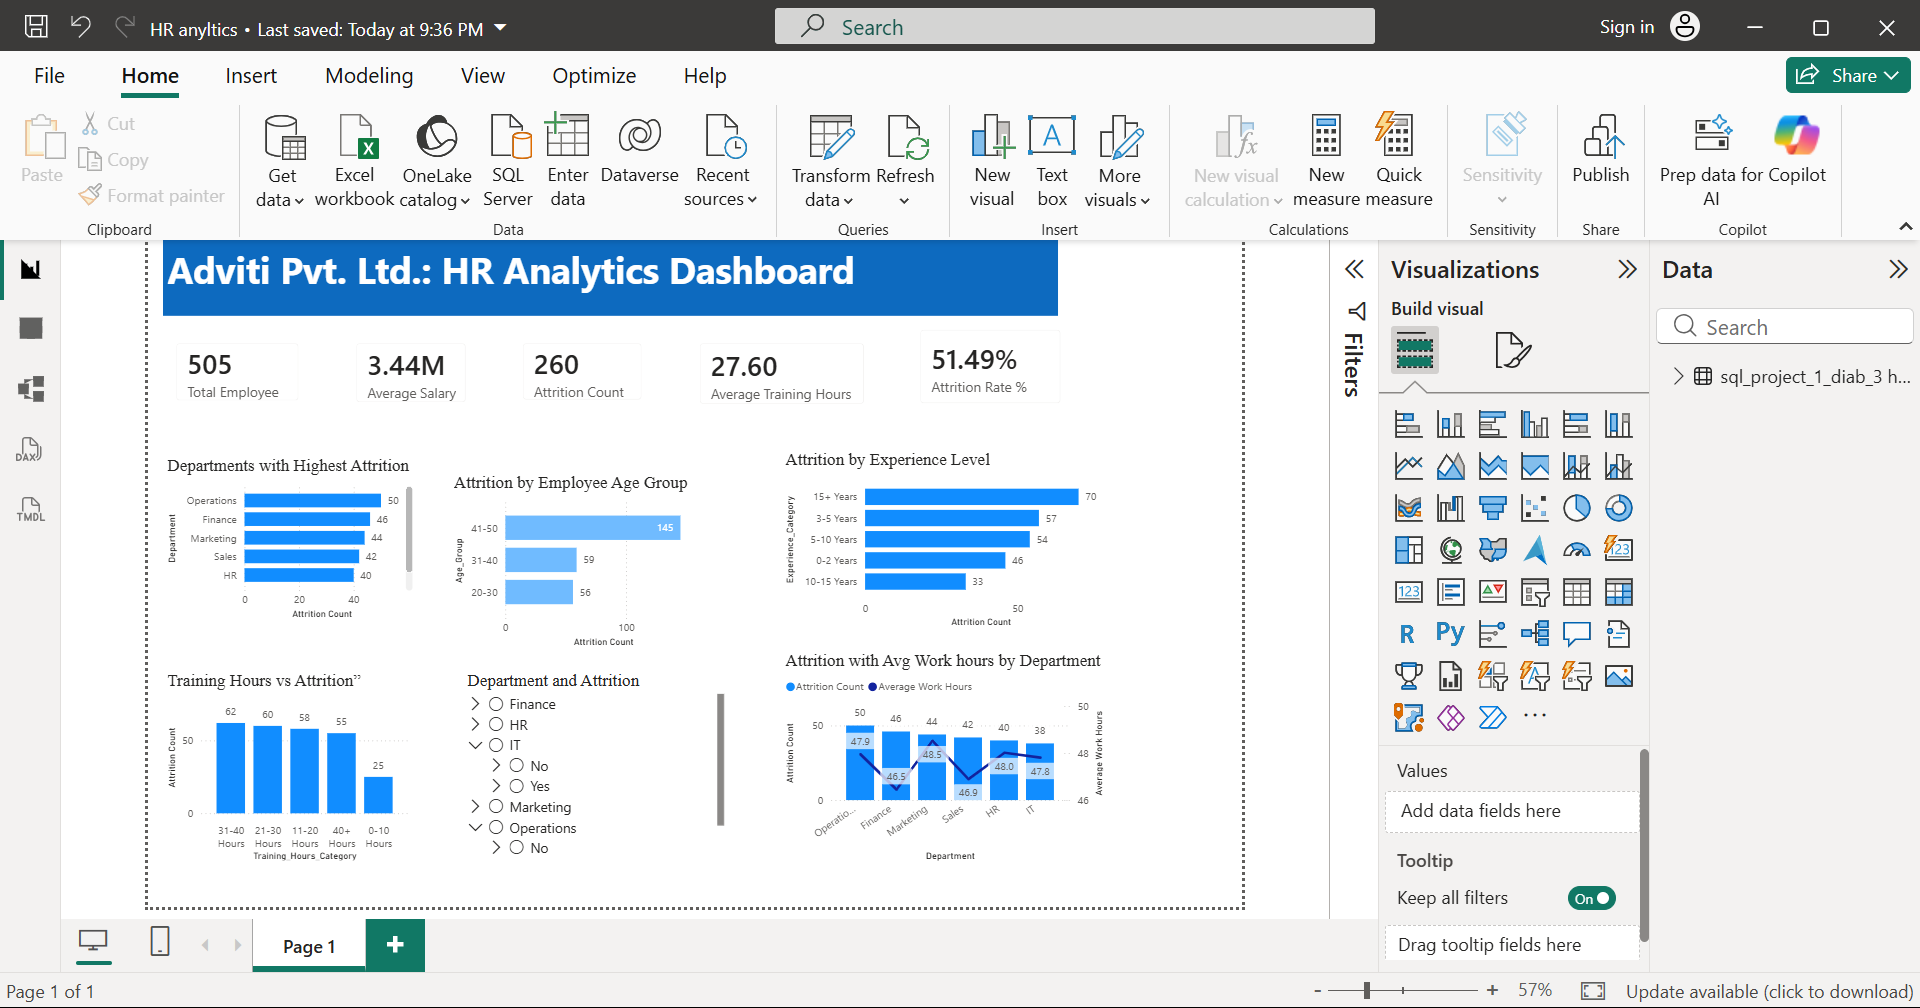

What the dashboard file says about the page in this screenshot:
{"tool":"powerbi","page":{"name":"Page 1","canvas":[1280,780],"ordinal":0},"visuals":[{"type":"cardVisual","fields":{"Data":["sql_project_1_diab_3 hr_data.Total Employee"]},"box":[16.2,103.3,177.5,101.2],"z":0},{"type":"cardVisual","fields":{"Data":["sql_project_1_diab_3 hr_data.Average Salary"]},"box":[226.2,103.3,162.5,103.8],"z":1000},{"type":"cardVisual","fields":{"Data":["sql_project_1_diab_3 hr_data.Attrition Count"]},"box":[421.2,103.3,173.8,100],"z":2000},{"type":"cardVisual","fields":{"Data":["sql_project_1_diab_3 hr_data.Average Training Hours"]},"box":[627.5,103.3,226.2,105],"z":3000},{"type":"cardVisual","fields":{"Data":["sql_project_1_diab_3 hr_data.Attrition Rate %"]},"box":[886.7,88.3,198.3,120],"z":4000},{"type":"clusteredBarChart","title":"Attrition by Employee Age Group","fields":{"Y":["sql_project_1_diab_3 hr_data.Attrition Count"],"Category":["sql_project_1_diab_3 hr_data.Age_Group"]},"box":[353.3,271.7,310,208.3],"z":5000},{"type":"barChart","title":"Departments with Highest Attrition","fields":{"Category":["sql_project_1_diab_3 hr_data.Department"],"Y":["sql_project_1_diab_3 hr_data.Attrition Count"]},"box":[16.7,251.9,296.7,195],"z":6000},{"type":"columnChart","title":"Training Hours vs Attrition”","fields":{"Category":["sql_project_1_diab_3 hr_data.Training_Hours_Category"],"Y":["sql_project_1_diab_3 hr_data.Attrition Count"]},"box":[16.7,503.3,291.7,226.7],"z":7000},{"type":"barChart","title":"Attrition by Experience Level","fields":{"Category":["sql_project_1_diab_3 hr_data.Experience_Category"],"Y":["sql_project_1_diab_3 hr_data.Attrition Count"]},"box":[740,245,381.7,211.7],"z":8000},{"type":"listSlicer","fields":{"Values":["sql_project_1_diab_3 hr_data.Department","sql_project_1_diab_3 hr_data.Attrition","sql_project_1_diab_3 hr_data.Performance_Rating"]},"box":[369.2,503.3,310,226.7],"z":9000},{"type":"lineClusteredColumnComboChart","title":"Attrition with Avg Work hours by Department","fields":{"Category":["sql_project_1_diab_3 hr_data.Department"],"Y":["sql_project_1_diab_3 hr_data.Attrition Count"],"Y2":["sql_project_1_diab_3 hr_data.Average Work Hours"]},"box":[740,480,381.7,250],"z":10000},{"type":"textbox","box":[16.7,0,1046.7,88.3],"z":11000}]}

Visuals, with their boxes on the page's 1280x780 design canvas (x1, y1, x2, y2). These are canvas units, not pixel positions in the 1920x1008 screenshot, which may show the page scaled, cropped or inside an application window:
cardVisual - sql_project_1_diab_3 hr_data.Total Employee: region(16, 103, 194, 204)
cardVisual - sql_project_1_diab_3 hr_data.Average Salary: region(226, 103, 389, 207)
cardVisual - sql_project_1_diab_3 hr_data.Attrition Count: region(421, 103, 595, 203)
cardVisual - sql_project_1_diab_3 hr_data.Average Training Hours: region(628, 103, 854, 208)
cardVisual - sql_project_1_diab_3 hr_data.Attrition Rate %: region(887, 88, 1085, 208)
"Attrition by Employee Age Group" clusteredBarChart: region(353, 272, 663, 480)
"Departments with Highest Attrition" barChart: region(17, 252, 313, 447)
"Training Hours vs Attrition”" columnChart: region(17, 503, 308, 730)
"Attrition by Experience Level" barChart: region(740, 245, 1122, 457)
listSlicer - sql_project_1_diab_3 hr_data.Department x sql_project_1_diab_3 hr_data.Attrition: region(369, 503, 679, 730)
"Attrition with Avg Work hours by Department" lineClusteredColumnComboChart: region(740, 480, 1122, 730)
textbox: region(17, 0, 1063, 88)
